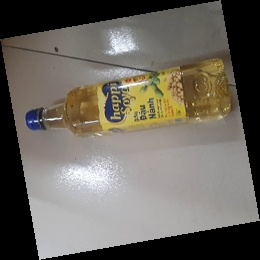Happy Soya: (23, 56, 233, 139)
